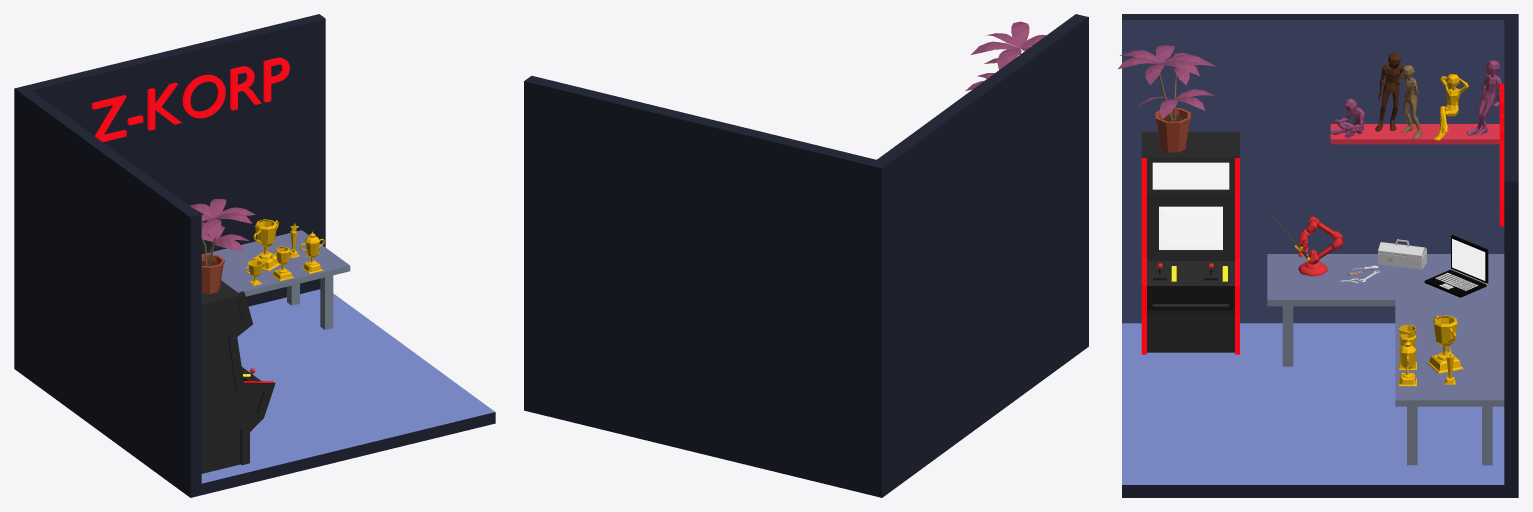
File: garage6.gltf
The picture shows the model from 3 angles, left to right: view 1: azimuth 30°, elevation 25°; view 2: azimuth 150°, elevation 25°; view 3: azimuth 270°, elevation 25°; orthographic projection. The views are drawn at different scales.
Parts seen in each view (by area): view 1: _Room, Arcade, Text, Table.001, leaf.014_7, Patas, trophy_M.003, trophy_L.002; view 2: _Room, leaf.014_7; view 3: _Room, Arcade, Table.001, Table, leaf.014_7, Shelving, Cube.002_Material_0, Patas, defaultMaterial.019, Object_7_Object_0.005, ToolBox, trophy_M.003 (+8 smaller).
Boxes of the visible parts, left/top/right/bottom form: _Room: left=14, top=14, right=495, bottom=497; Arcade: left=201, top=280, right=275, bottom=473; Text: left=92, top=57, right=289, bottom=141; Table.001: left=202, top=230, right=350, bottom=296; leaf.014_7: left=190, top=198, right=255, bottom=294; Patas: left=287, top=275, right=333, bottom=329; trophy_M.003: left=252, top=219, right=280, bottom=271; trophy_L.002: left=300, top=231, right=324, bottom=273; _Room: left=524, top=14, right=1088, bottom=497; leaf.014_7: left=965, top=21, right=1046, bottom=90; _Room: left=1122, top=14, right=1518, bottom=497; Arcade: left=1141, top=131, right=1239, bottom=354; Table.001: left=1395, top=300, right=1504, bottom=406; Table: left=1267, top=254, right=1504, bottom=306; leaf.014_7: left=1118, top=45, right=1215, bottom=152; Shelving: left=1330, top=124, right=1499, bottom=144; Cube.002_Material_0: left=1424, top=235, right=1488, bottom=297; Patas: left=1407, top=406, right=1492, bottom=465; defaultMaterial.019: left=1298, top=216, right=1343, bottom=276; Object_7_Object_0.005: left=1375, top=52, right=1403, bottom=131; ToolBox: left=1378, top=239, right=1426, bottom=269; trophy_M.003: left=1427, top=315, right=1463, bottom=373.
Bounding box in the file's own units: 2 × 1.77 × 2.03.
